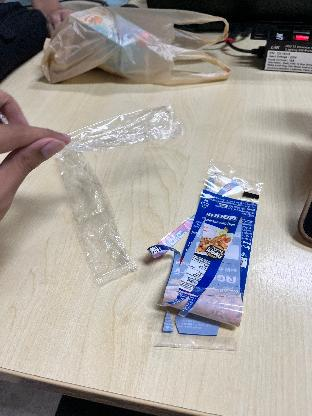Others: (144, 156, 270, 362), (50, 144, 138, 290), (52, 101, 186, 163)
